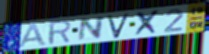2: (163, 8, 185, 34)
A: (16, 23, 49, 49)
N: (77, 15, 106, 42)
R: (47, 19, 73, 46)
V: (106, 12, 131, 40)
X: (134, 8, 163, 37)
